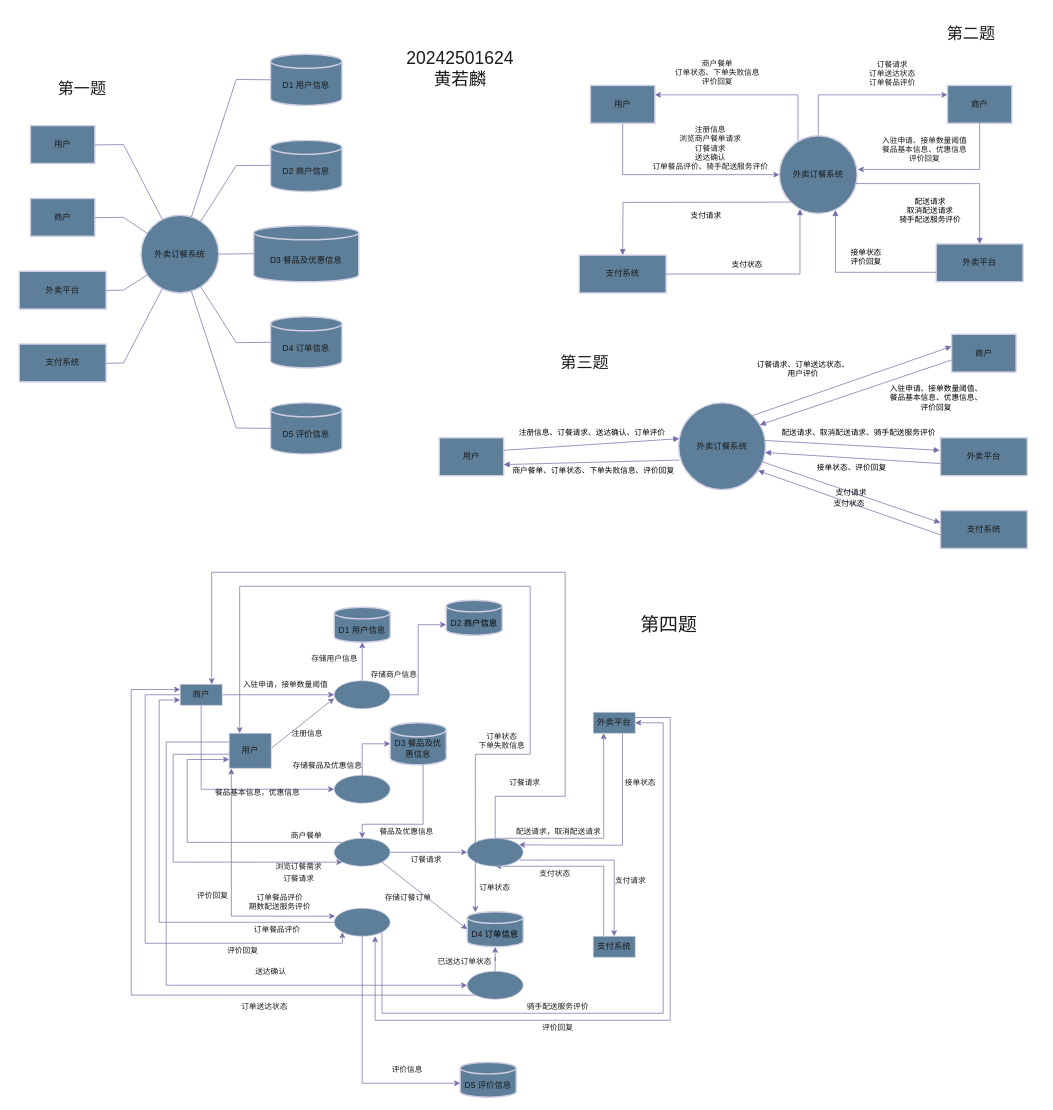
The diagram is 1053 pixels wide and 1110 high, and some of its shapes have lost their labels. Each missing label, with the centre of its shape:
入驻管理: the point at 361,694
订单处理: the point at 494,852
订单评价: the point at 361,922
订餐: the point at 361,852
配送: the point at 494,985
餐品管理: the point at 361,789
